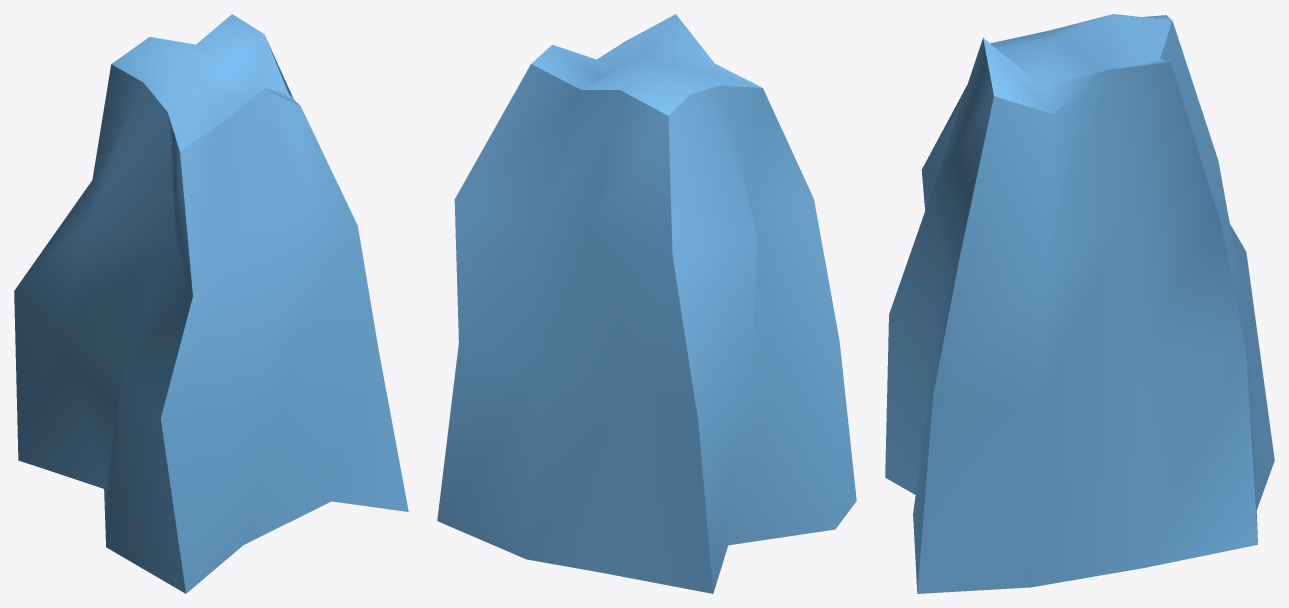
Rendered from Char_VT_Freeze.FBX.
The picture shows the model from 3 angles, left to right: view 1: azimuth 30°, elevation 25°; view 2: azimuth 150°, elevation 25°; view 3: azimuth 270°, elevation 25°; orthographic projection. The views are drawn at different scales.
Parts seen in each view (by area): view 1: Box003; view 2: Box003; view 3: Box003.
Part boxes in pixels (bbox=[...]): Box003: bbox=[14, 14, 408, 593]; Box003: bbox=[437, 14, 856, 593]; Box003: bbox=[885, 14, 1274, 593].
Size of the model in its own units: 17.09 by 25.98 by 17.74.
